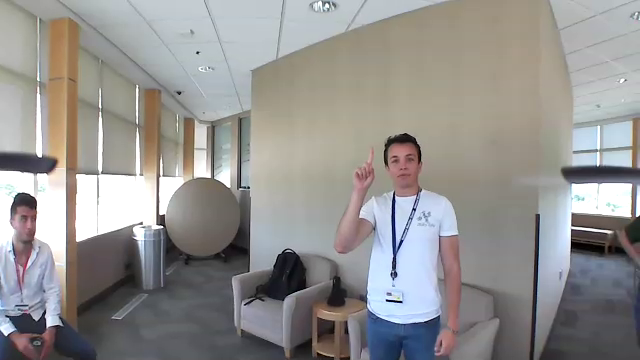up: (355, 141, 377, 189)
